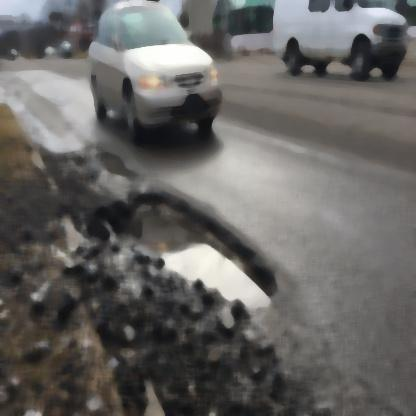Potholes: (136, 206, 274, 304)
